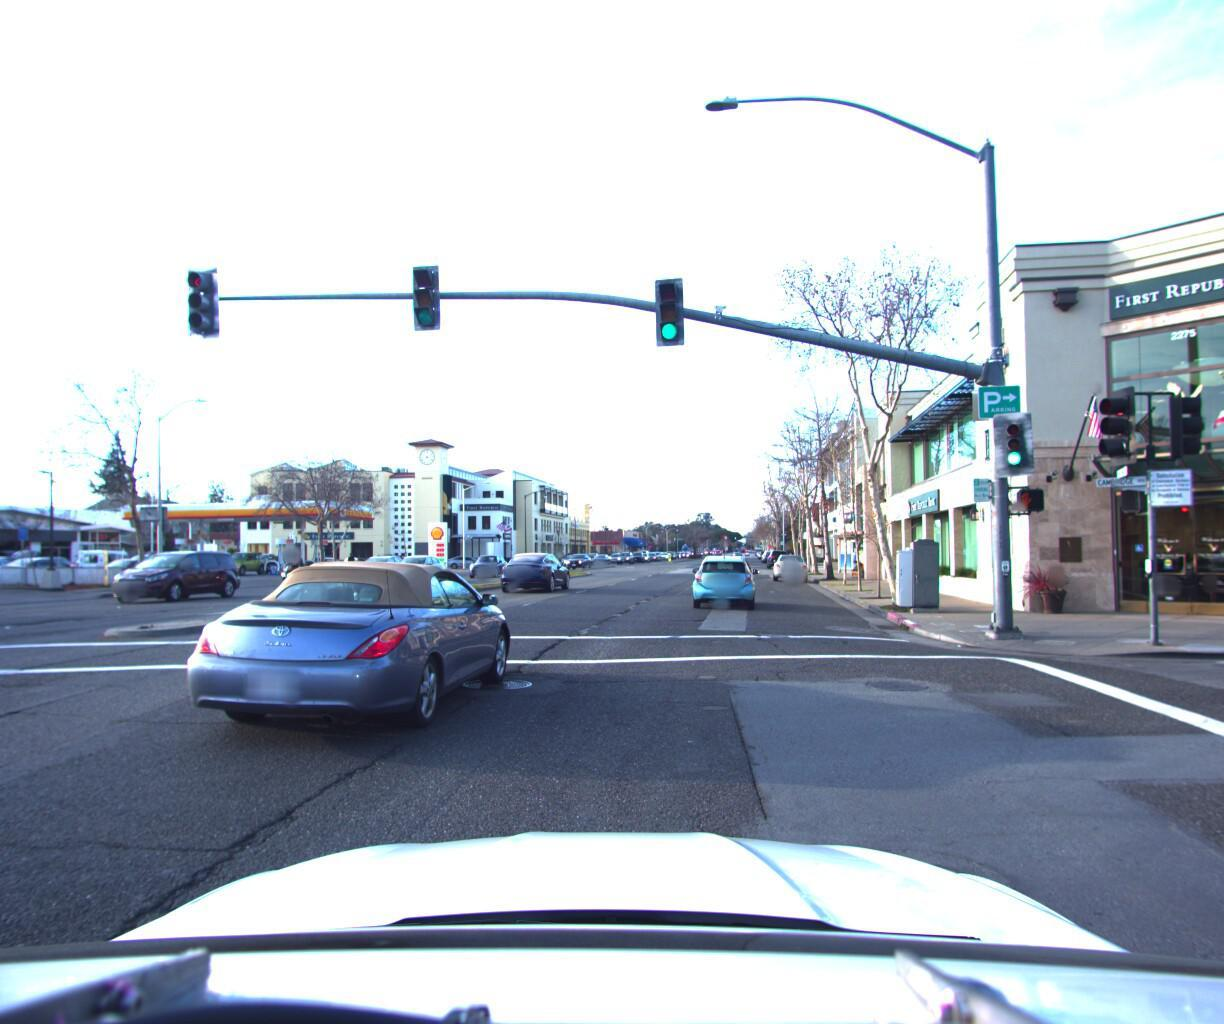car: (170, 551, 526, 759), (104, 541, 248, 601), (39, 545, 150, 590), (690, 547, 753, 607), (88, 553, 187, 589), (498, 546, 571, 590), (379, 550, 451, 582), (346, 550, 414, 582), (210, 549, 270, 575), (464, 547, 512, 574), (770, 547, 805, 579), (764, 544, 788, 565), (561, 548, 590, 565), (0, 533, 4, 556)
motorcycle: (269, 543, 317, 589)
